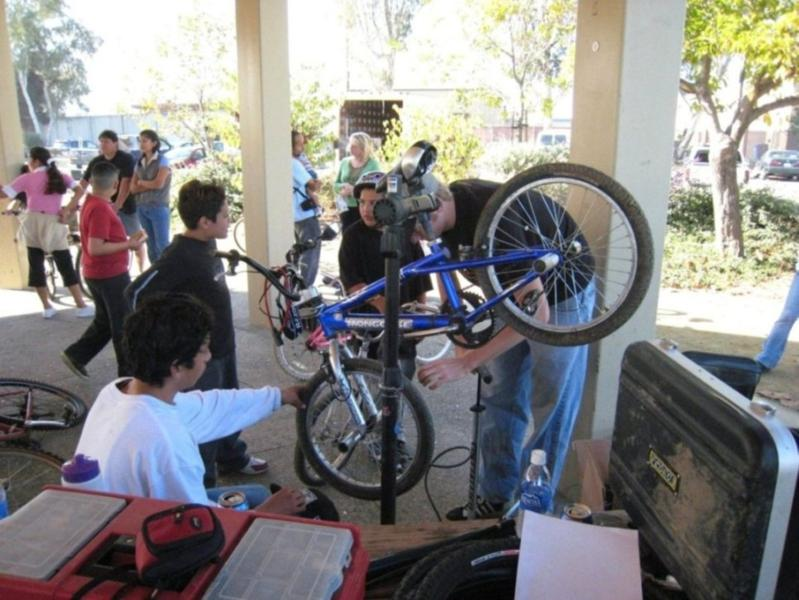person: (386, 171, 598, 526)
